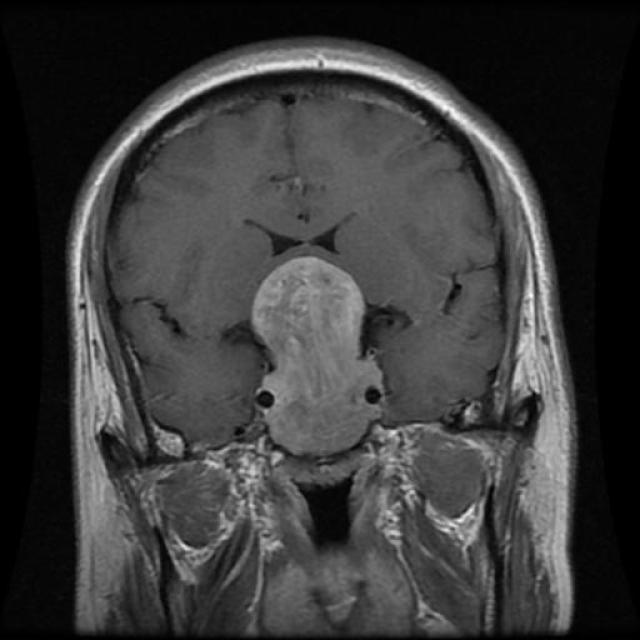Pituitary: (253, 256, 385, 458)
